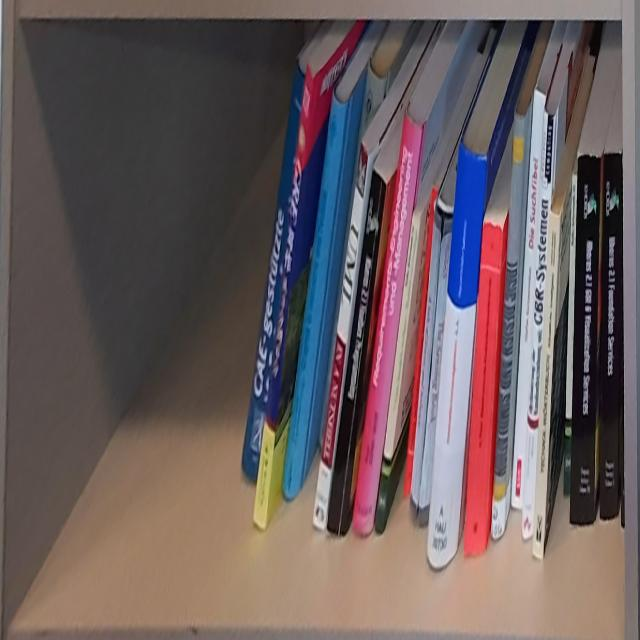Book Spine: (351, 109, 424, 538), (253, 63, 315, 536), (281, 90, 350, 501), (241, 62, 305, 484), (427, 139, 488, 571), (325, 171, 387, 540), (313, 143, 369, 531), (511, 89, 548, 510), (520, 113, 556, 543), (490, 110, 525, 543), (375, 213, 420, 536), (465, 225, 502, 558), (570, 155, 601, 526), (418, 218, 452, 528), (410, 208, 442, 519), (534, 211, 562, 562), (599, 153, 622, 523), (562, 173, 578, 495)
